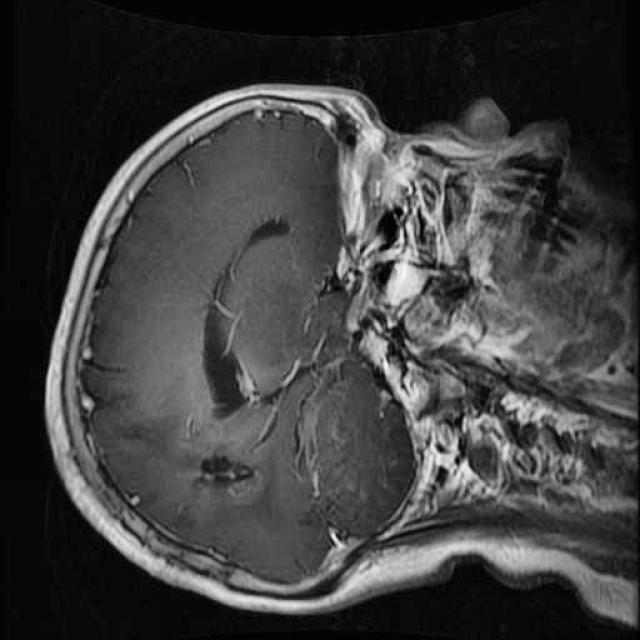Non-Tumor: (184, 440, 276, 515)
